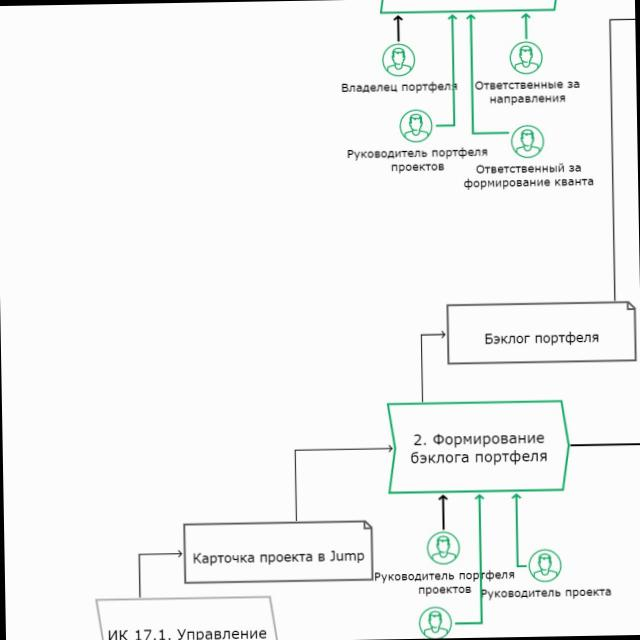arrow: (292, 444, 394, 517), (464, 12, 510, 136), (452, 493, 487, 628), (434, 13, 458, 126), (418, 330, 448, 402), (508, 488, 526, 568), (436, 494, 450, 530), (391, 13, 404, 42)
circle: (427, 532, 460, 564), (529, 550, 561, 582), (400, 110, 432, 142), (510, 42, 542, 74), (383, 44, 415, 76), (511, 126, 543, 158), (420, 607, 452, 638)
rectangle: (386, 398, 568, 493), (184, 521, 373, 583), (447, 302, 636, 364)
text_region: (373, 564, 515, 598), (462, 160, 602, 193), (331, 146, 489, 174), (474, 76, 584, 105), (478, 582, 616, 604), (333, 80, 458, 94)
